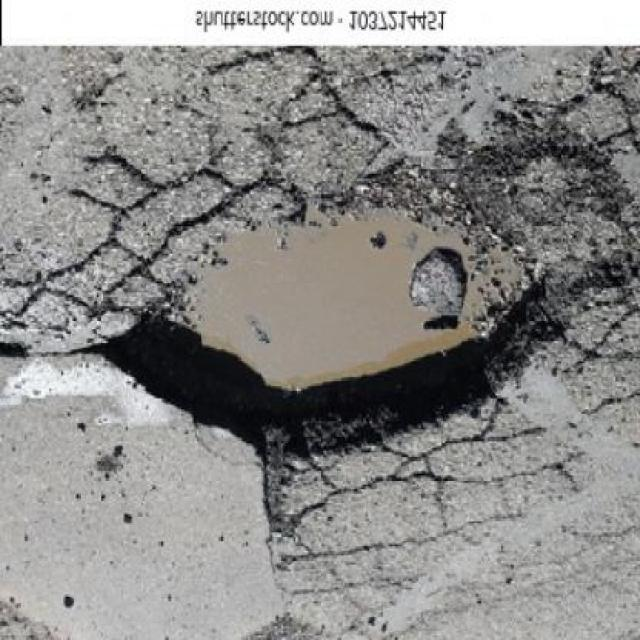Pothole: (75, 113, 637, 468)
